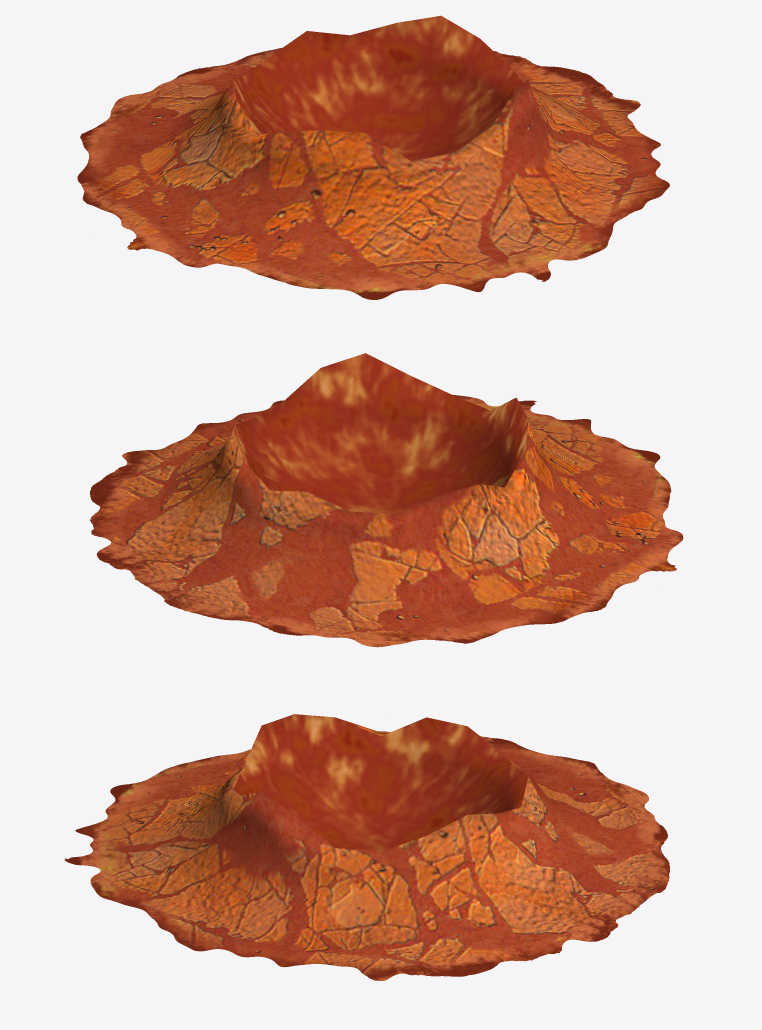
File: Crater_1.fbx
The picture shows the model from 3 angles, top to bottom: view 1: azimuth 30°, elevation 25°; view 2: azimuth 150°, elevation 25°; view 3: azimuth 270°, elevation 25°; orthographic projection.
Visible parts, largest first — view 1: Crater_1; view 2: Crater_1; view 3: Crater_1.
Part boxes in pixels (x1=…): Crater_1: x1=77, y1=15, x2=669, y2=299; Crater_1: x1=89, y1=353, x2=683, y2=647; Crater_1: x1=64, y1=714, x2=669, y2=980.
Bounding box in the file's own units: 6.29 × 0.9997 × 6.29.
Materials: 1 (1 with a texture image).
